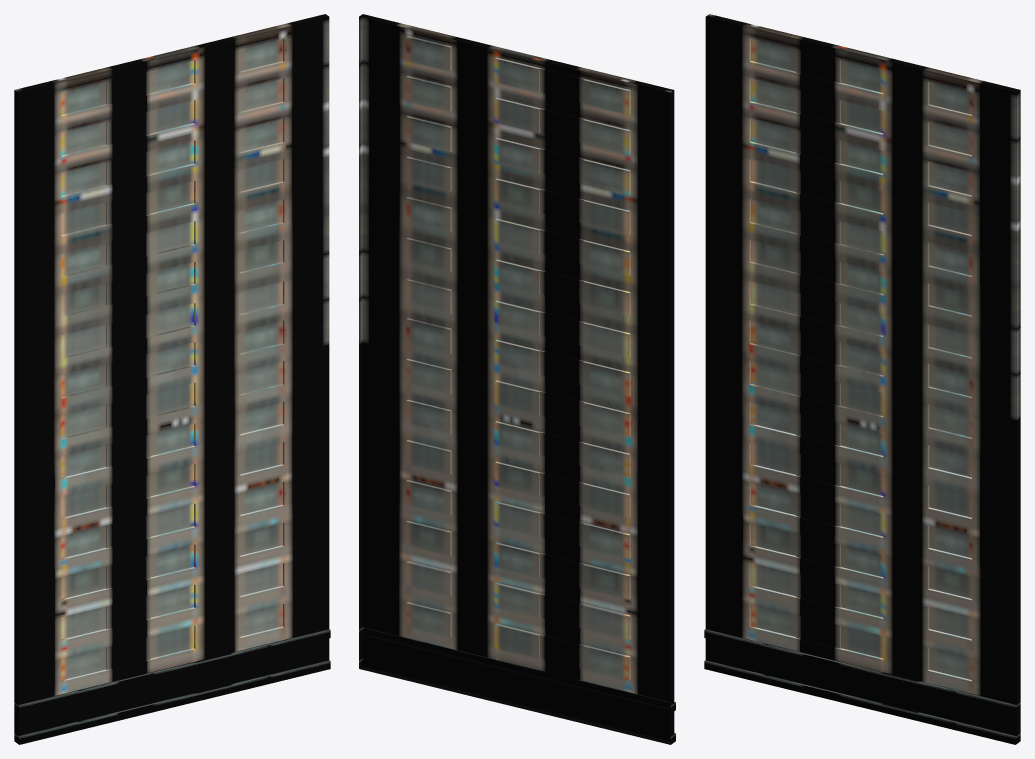
The model's file is Pagoda_Body_Tile_2500x5000_A.FBX.
The picture shows the model from 3 angles, left to right: view 1: azimuth 30°, elevation 25°; view 2: azimuth 150°, elevation 25°; view 3: azimuth 330°, elevation 25°; orthographic projection.
Visible parts, largest first — view 1: Geometry_Pagoda_Body_Tile_2500x5000_A_LOD00; view 2: Geometry_Pagoda_Body_Tile_2500x5000_A_LOD00; view 3: Geometry_Pagoda_Body_Tile_2500x5000_A_LOD00.
Part boxes in pixels (bbox=[...]): Geometry_Pagoda_Body_Tile_2500x5000_A_LOD00: bbox=[14, 14, 330, 744]; Geometry_Pagoda_Body_Tile_2500x5000_A_LOD00: bbox=[359, 14, 675, 744]; Geometry_Pagoda_Body_Tile_2500x5000_A_LOD00: bbox=[704, 14, 1020, 744].
Size of what is drawn, in the model's own units: 2500 by 5000 by 70.33.
